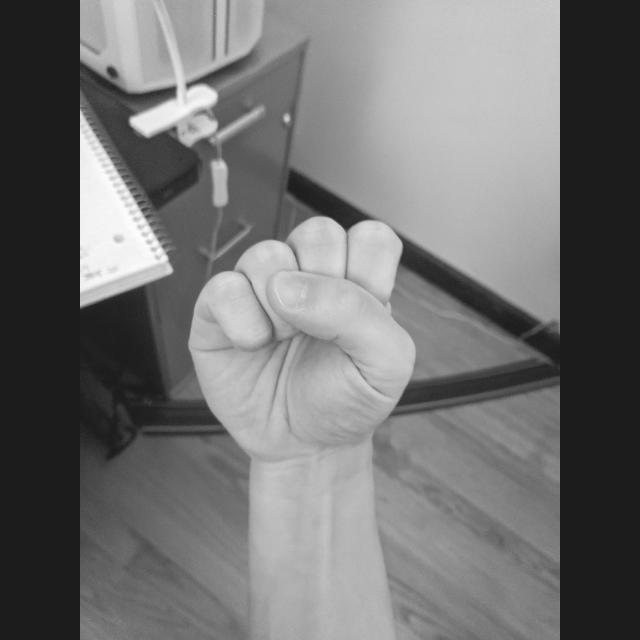S: (182, 209, 424, 466)
